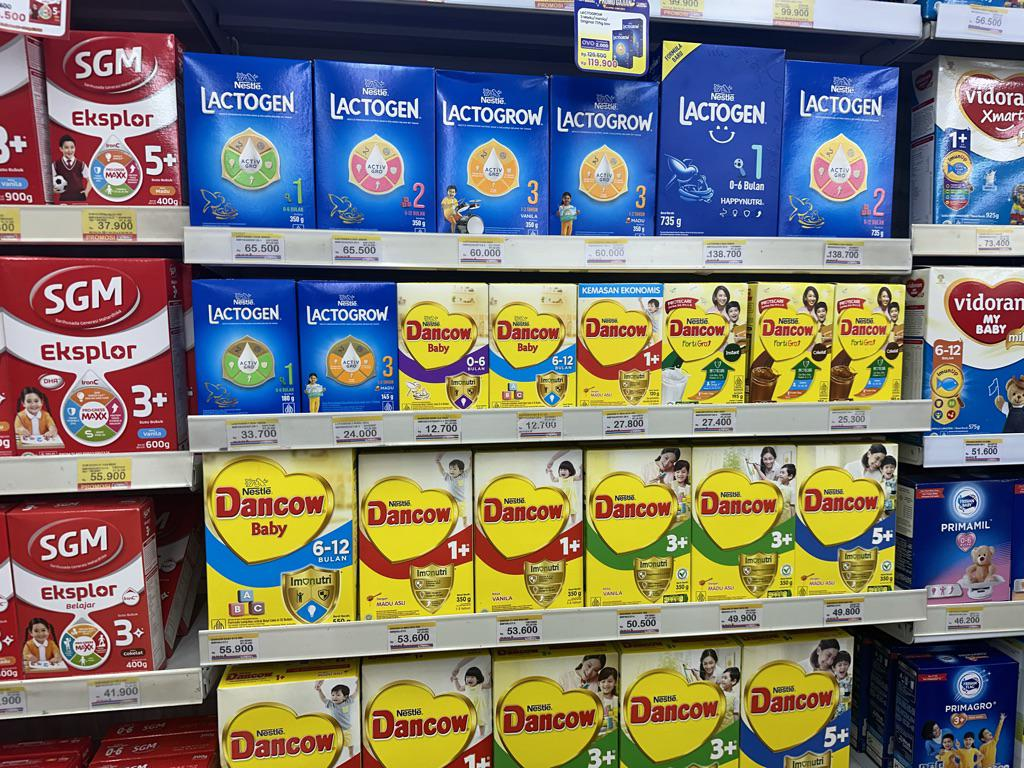DANCOW 1+ Madu Advn ExcNutr 40x200g ID_REDESIGN3: (577, 295, 663, 406)
DANCOW 1+ Van Advn ExcNutr 24x400g ID_REDESIGN3: (474, 450, 586, 613)
DANCOW 3+ Van Advn ExcNutr 24x400g ID_REDESIGN3: (585, 450, 691, 606)
